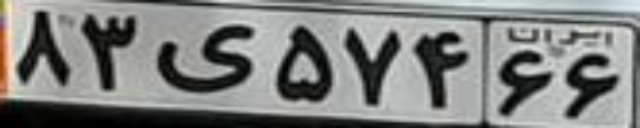3: (79, 13, 139, 92)
4: (412, 29, 469, 108)
5: (271, 24, 334, 102)
6: (493, 48, 555, 114), (566, 51, 619, 118)
7: (343, 27, 402, 106)
8: (15, 9, 71, 87)
ye: (155, 23, 257, 93)
